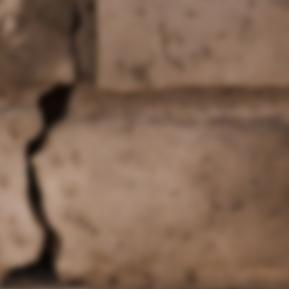brick: (94, 0, 288, 92), (0, 0, 73, 83), (4, 284, 89, 288)
broken_brick: (32, 113, 288, 275), (0, 104, 41, 265)
crack: (0, 2, 83, 286)
